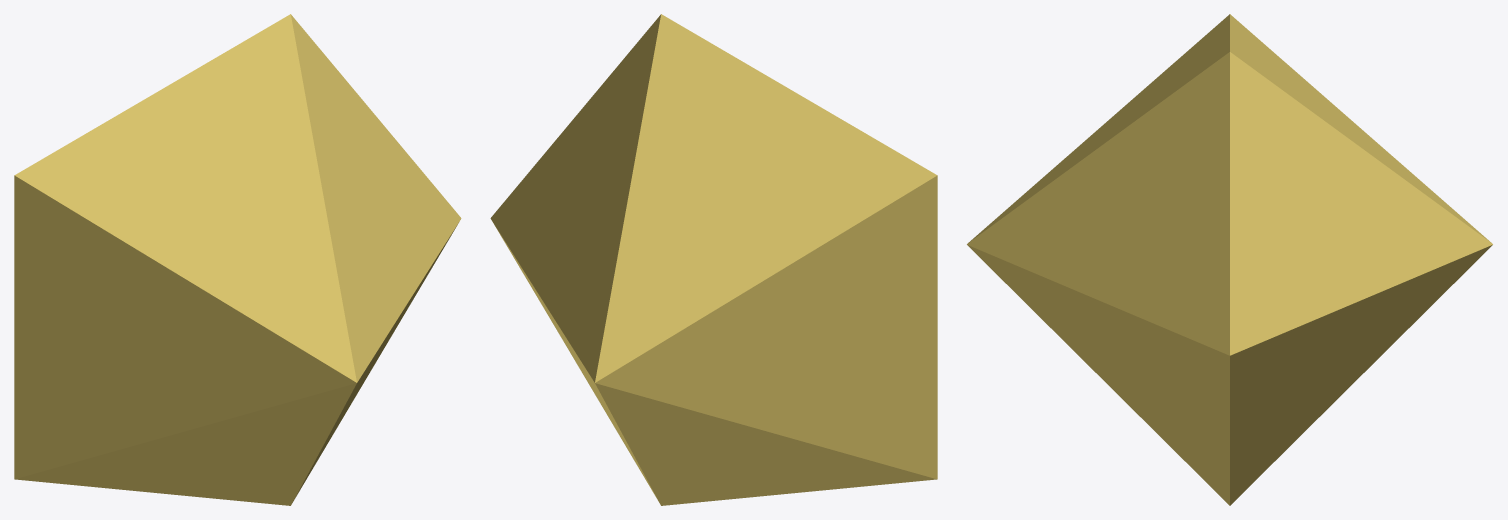
3 renders of one model, left to right at view 1: azimuth 30°, elevation 25°; view 2: azimuth 150°, elevation 25°; view 3: azimuth 270°, elevation 25°, orthographic. The views are drawn at different scales.
Visible parts, largest first — view 1: world; view 2: world; view 3: world.
Part boxes in pixels (left/top/right/bottom): world: left=14, top=14, right=461, bottom=505; world: left=490, top=14, right=937, bottom=505; world: left=967, top=14, right=1492, bottom=505.
Size of the model in its own units: 1.81 by 1.9 by 2.
